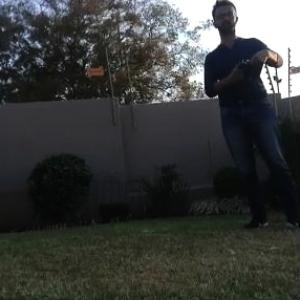follow: (199, 0, 300, 240)
